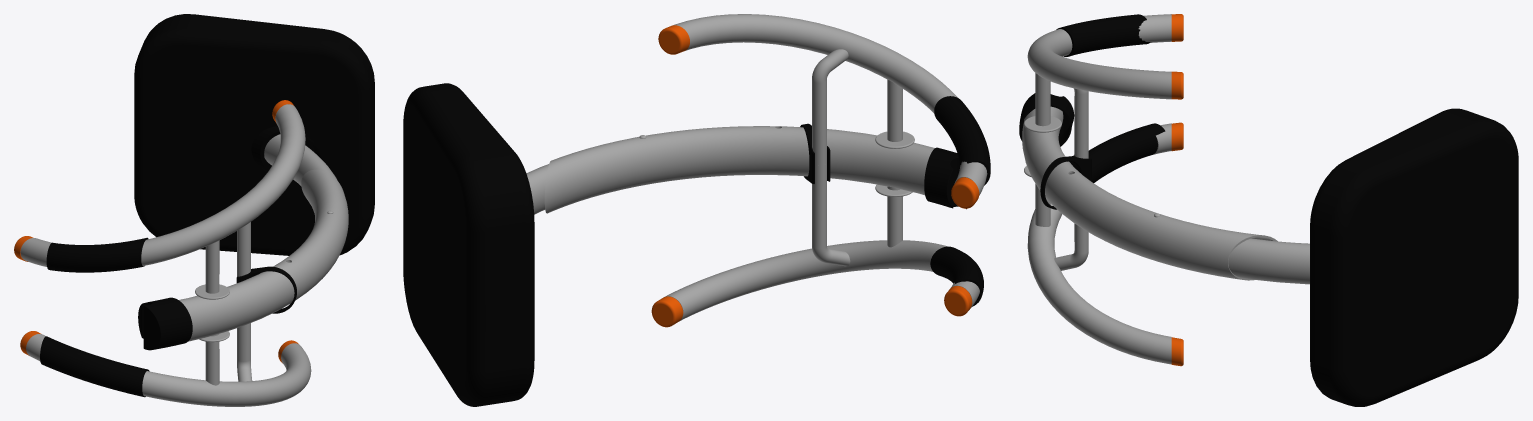
The model's file is C-Seat_plegado_final.fbx.
The picture shows the model from 3 angles, left to right: view 1: azimuth 30°, elevation 25°; view 2: azimuth 150°, elevation 25°; view 3: azimuth 270°, elevation 25°; orthographic projection. The views are drawn at different scales.
Visible parts, largest first — view 1: Cuerpo1 (1), tubo inf, pata izq, pata dere (1), pata dere (2), pata izq (1) (2) (1) (1), Cuerpo10, Cuerpo1 (2), Cuerpo25, Eje, Tubo sup (1), Tubo sup (1) (1) (+3 smaller); view 2: Cuerpo1 (2), tubo inf, pata izq, pata dere (1), Cuerpo1 (1), Cuerpo25, pata izq (1) (2) (1) (1), Eje, Cuerpo10, pata dere (2), pata izq (1) (1) (1), pata izq (1) (1) (+4 smaller); view 3: Cuerpo1 (2), tubo inf, pata dere (1), pata izq, Cuerpo1 (1), Tubo sup (1), pata izq (1) (2) (1) (1), pata dere (2), Cuerpo25, Eje, Cuerpo10, Cuerpo14.
Boxes of the visible parts, box(x1,y1,x2,y2) form: Cuerpo1 (1): box(134, 24, 373, 255); tubo inf: box(179, 169, 348, 341); pata izq: box(20, 104, 305, 266); pata dere (1): box(142, 343, 311, 406); pata dere (2): box(40, 336, 149, 397); pata izq (1) (2) (1) (1): box(46, 237, 148, 272); Cuerpo10: box(138, 297, 192, 350); Cuerpo1 (2): box(140, 14, 374, 223); Cuerpo25: box(237, 222, 252, 381); Eje: box(205, 240, 219, 385); Tubo sup (1): box(264, 134, 337, 262); Tubo sup (1) (1): box(251, 126, 323, 181); Cuerpo1 (2): box(403, 85, 513, 406); tubo inf: box(544, 126, 934, 213); pata izq: box(673, 14, 987, 195); pata dere (1): box(665, 240, 947, 320); Cuerpo1 (1): box(434, 83, 534, 402); Cuerpo25: box(812, 49, 850, 266); pata izq (1) (2) (1) (1): box(934, 96, 990, 185); Eje: box(887, 80, 902, 247); Cuerpo10: box(924, 147, 966, 209); pata dere (2): box(930, 246, 983, 306); pata izq (1) (1) (1): box(651, 296, 683, 327); pata izq (1) (1): box(658, 25, 689, 54); Cuerpo1 (2): box(1323, 112, 1518, 406); tubo inf: box(1022, 106, 1277, 280); pata dere (1): box(1027, 203, 1171, 364); pata izq: box(1027, 14, 1171, 99); Cuerpo1 (1): box(1310, 108, 1473, 402); Tubo sup (1): box(1154, 213, 1309, 284); pata izq (1) (2) (1) (1): box(1056, 14, 1150, 56); pata dere (2): box(1088, 123, 1165, 182); Cuerpo25: box(1054, 88, 1088, 270); Eje: box(1035, 73, 1050, 226); Cuerpo10: box(1019, 93, 1074, 146); Cuerpo14: box(1040, 155, 1091, 209).
Bounding box in the file's own units: 498 × 292 × 459.
